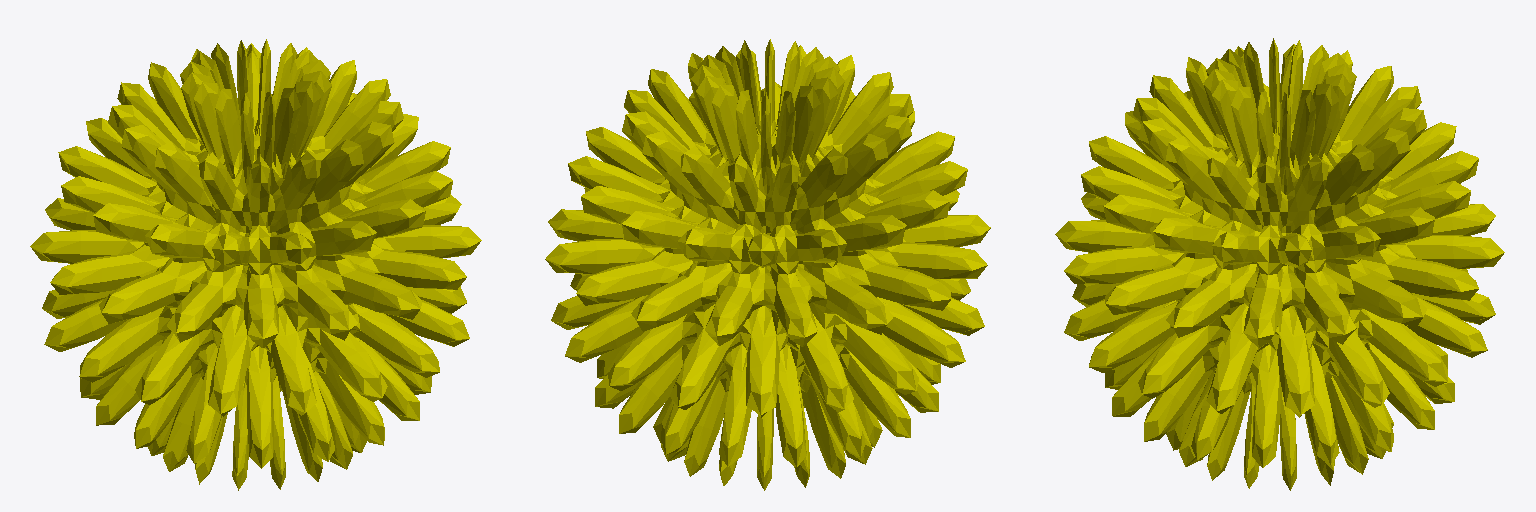
File: explosionfinal.obj
3 renders of one model, left to right at view 1: azimuth 30°, elevation 25°; view 2: azimuth 150°, elevation 25°; view 3: azimuth 270°, elevation 25°, orthographic.
Parts seen in each view (by area): view 1: Sphere; view 2: Sphere; view 3: Sphere.
Part boxes in pixels (bbox=[...]): Sphere: bbox=[30, 39, 481, 490]; Sphere: bbox=[545, 39, 990, 490]; Sphere: bbox=[1055, 38, 1504, 490].
Bounding box in the file's own units: 18.26 × 17.03 × 18.26.